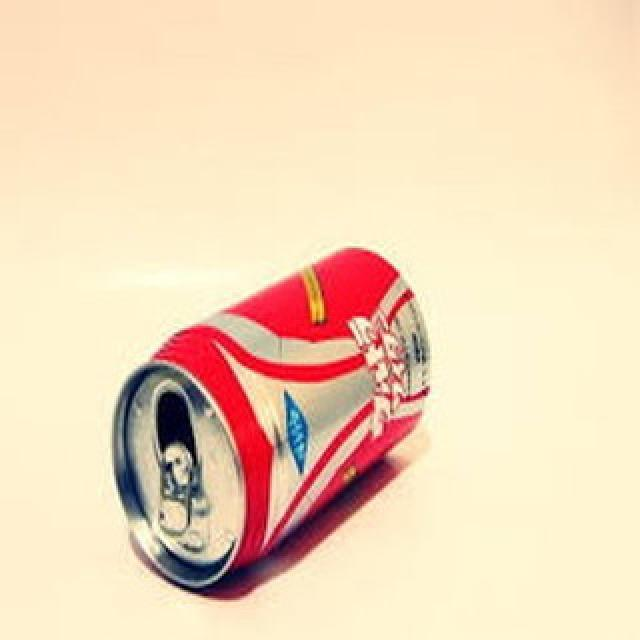recyclable: (103, 242, 434, 593)
